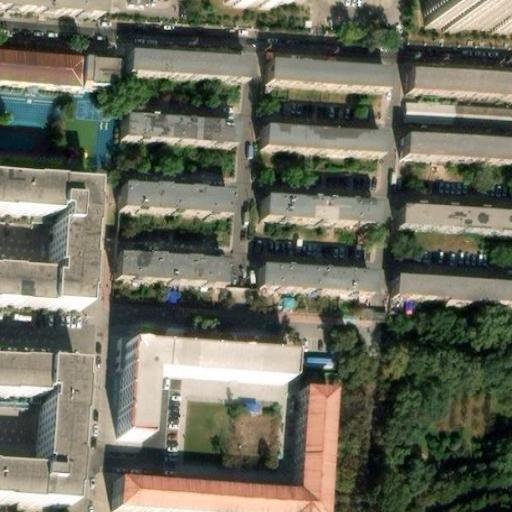building: (112, 391, 333, 512), (115, 346, 287, 438), (123, 249, 233, 287), (258, 124, 384, 157), (128, 177, 236, 215), (131, 109, 240, 145), (399, 204, 512, 236), (132, 50, 251, 79), (264, 200, 375, 231), (259, 265, 368, 296), (394, 274, 512, 302), (411, 63, 512, 95), (266, 65, 385, 92), (405, 99, 512, 129), (407, 139, 512, 166), (429, 0, 512, 30), (81, 57, 127, 87), (301, 354, 337, 372)
